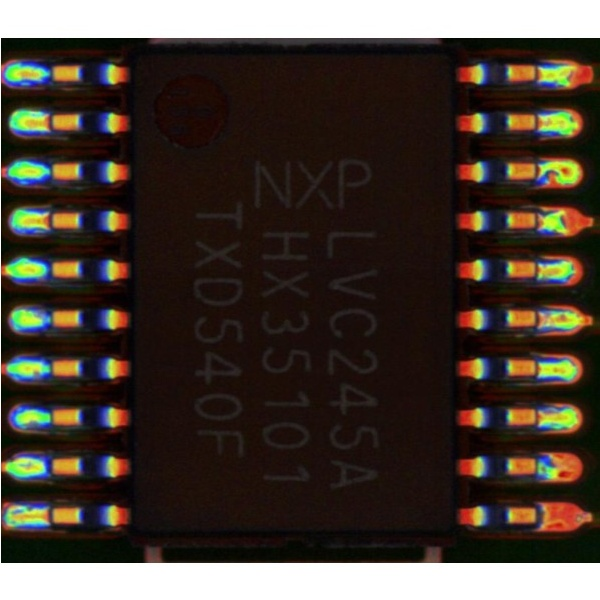Bad_podu: (24, 113, 66, 129), (17, 508, 67, 521), (24, 212, 68, 225), (519, 313, 565, 324), (519, 412, 565, 422), (520, 115, 554, 127), (521, 265, 558, 276)
